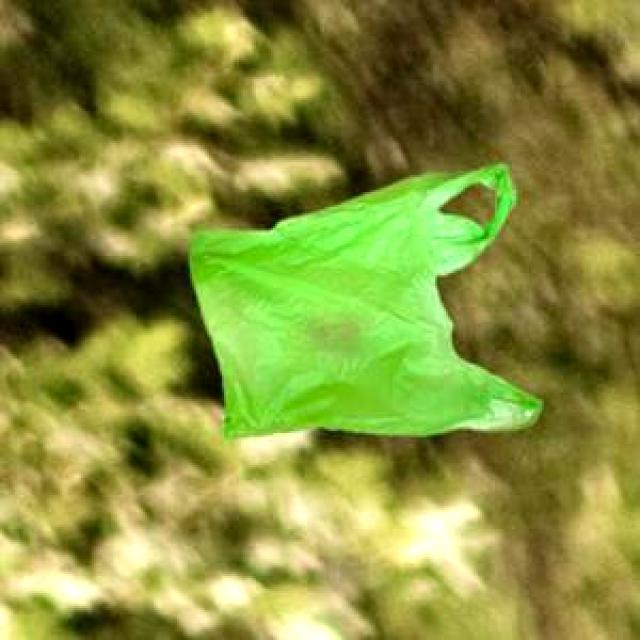Plastic_Bag: (186, 161, 536, 436)
